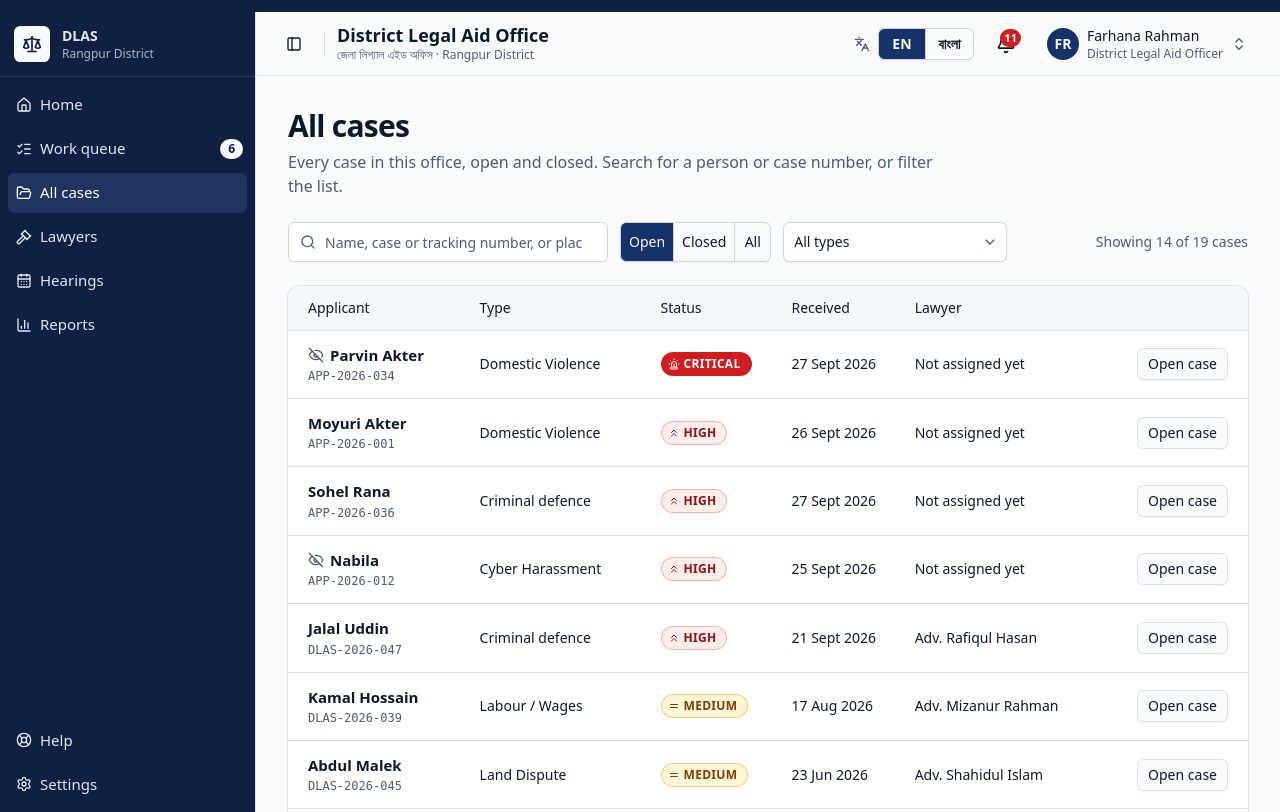
Test case: All cases › lists open cases by default and closed cases with their outcome
Expected: the message reads "Showing 14 of 19 cases", [1096,232,1248,251]
Expected: the row that starts with "Moyuri Akter" is shown, [308,413,407,433]
Click the button "Closed": (705, 242) [674,222,735,262]
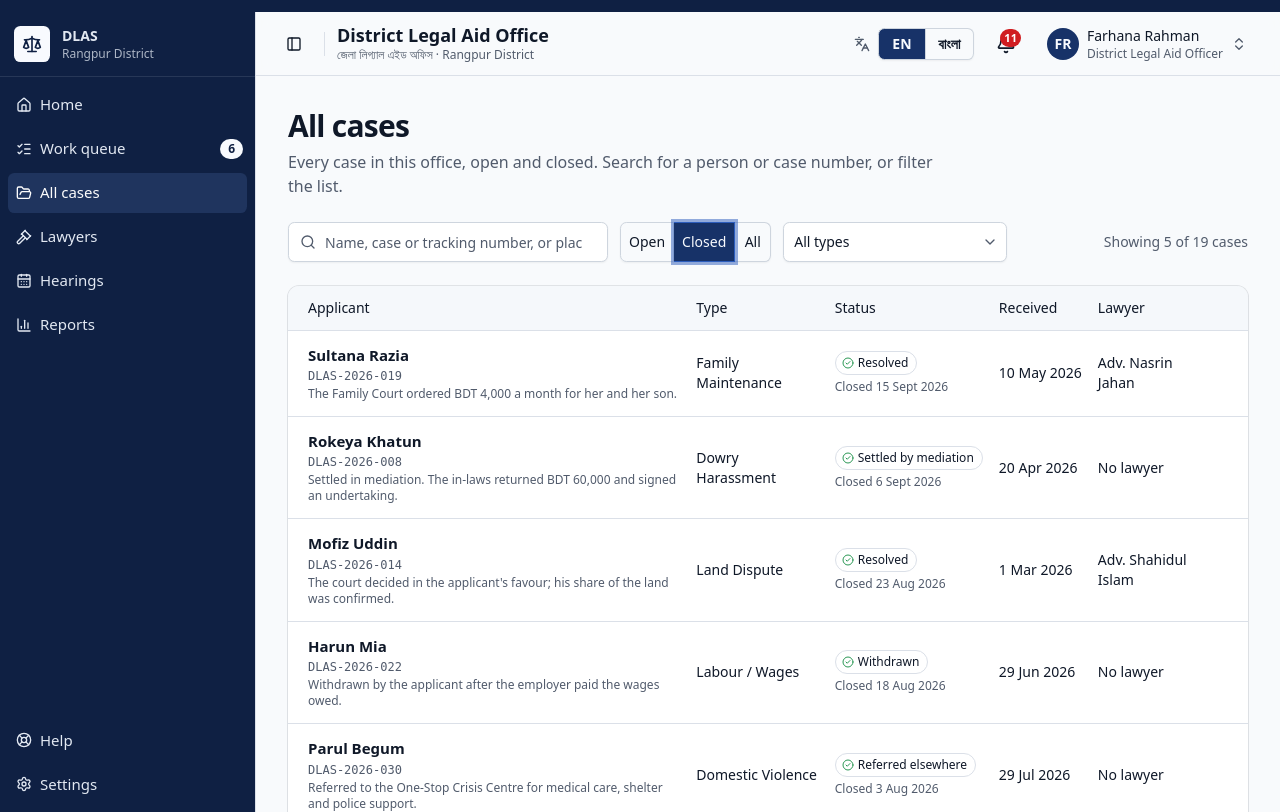
Expected: the message reads "Showing 5 of 19 cases", [1104,232,1248,251]
Expected: the row that starts with "Rokeya Khatun" shows "Settled by mediation", [858,449,974,466]
